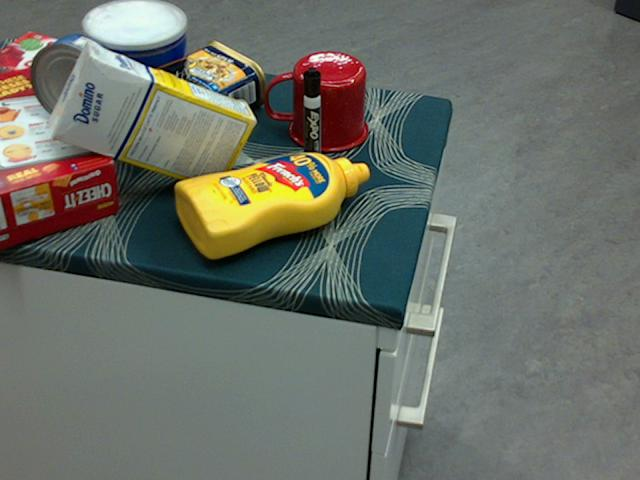cracker_box: (0, 67, 120, 246)
gelatin_box: (0, 32, 82, 95)
large_marker: (301, 67, 322, 174)
master_chef_can: (84, 0, 191, 162)
mug: (264, 51, 367, 152)
mustard_bottle: (174, 152, 369, 258)
potted_meat_can: (155, 40, 266, 128)
sugar_box: (50, 43, 257, 189)
tomato_soup_can: (64, 20, 143, 113)
tuna_fish_can: (30, 34, 123, 126)
